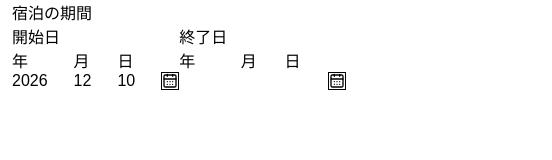
Test: DateRangePicker › does not take an end before the start
The image size is (552, 160).
In the field labelled "年" below "終了日": (210, 81) x1=179 y1=72 x2=241 y2=90, type "2026"
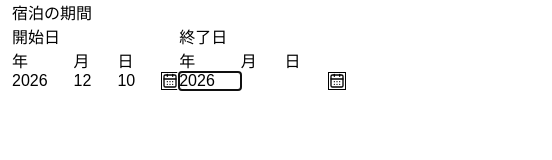
In the field labelled "月" below "終了日": (263, 81) x1=241 y1=72 x2=285 y2=90, type "12"
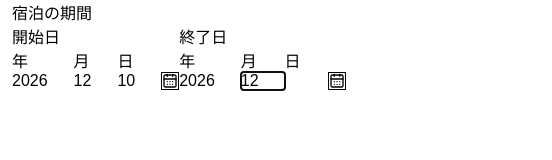
In the field labelled "日" below "終了日": (306, 81) x1=285 y1=72 x2=328 y2=90, type "5"
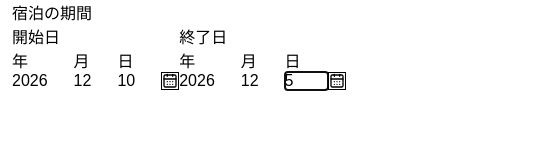
Press Tab
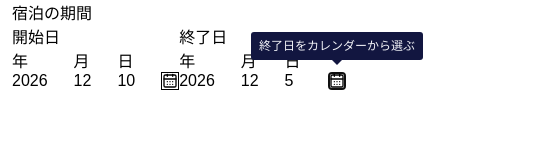
Press Tab
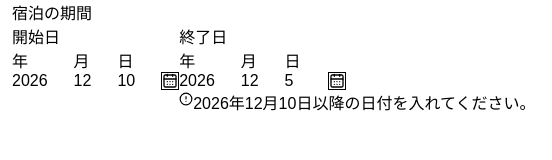
expect the text "2026年12月10日以降の日付を入れてください。" is shown: met, box x1=193 y1=90 x2=535 y2=114
